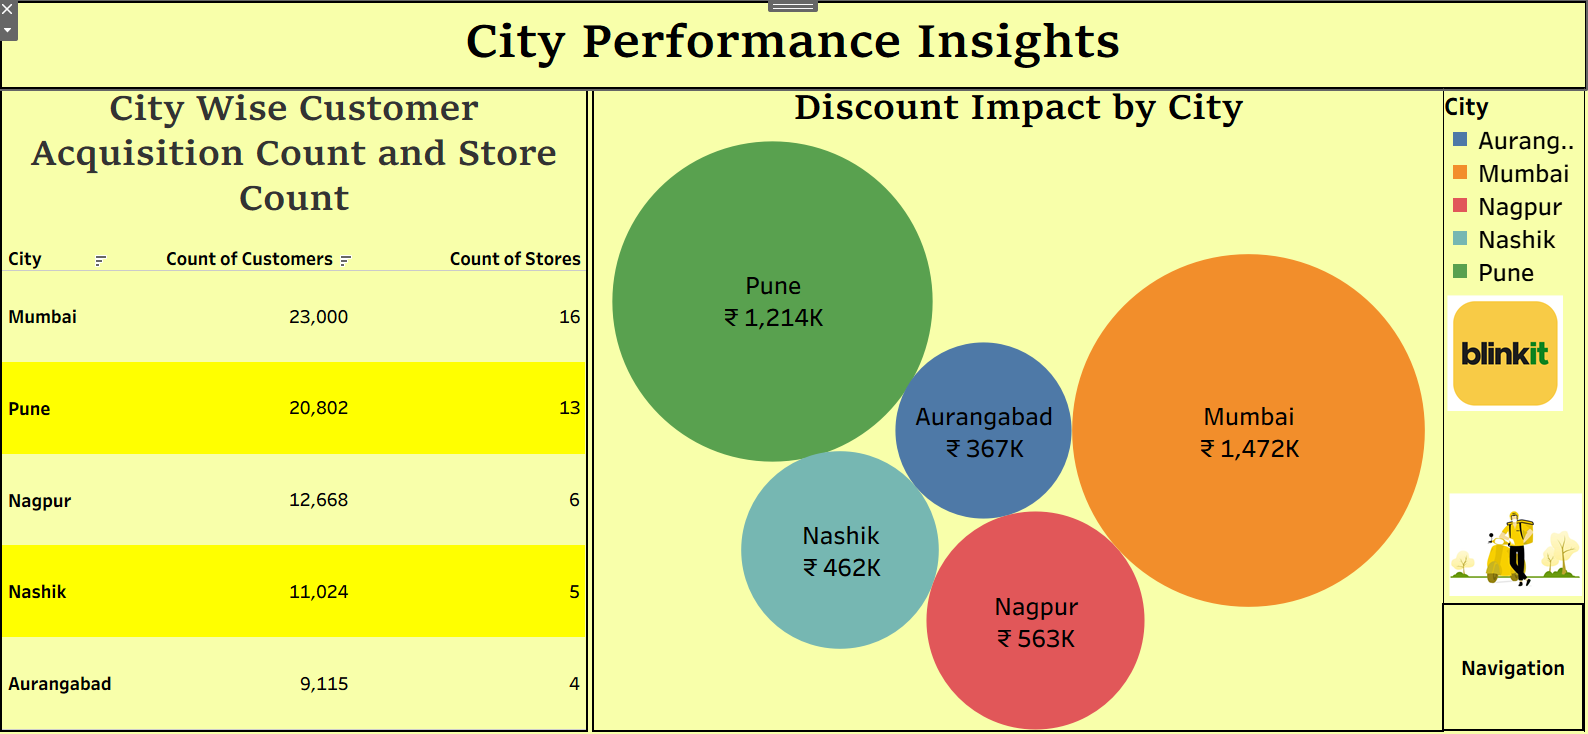

What the dashboard file says about the page in this screenshot:
{"tool":"tableau","page":{"name":"City Performance Insights","canvas":[1000,1000],"units":"permille","ordinal":0},"visuals":[{"type":"text","box":[4.9,7,989.1,117.4]},{"type":"worksheet","title":"City and Store Count","mark":"Automatic","rows":["City"],"box":[4.9,122.1,366.7,864]},{"type":"worksheet","title":"Discount Impact by City","mark":"Circle","box":[373.9,122.1,531.5,865.1]},{"type":"legend","title":"Discount Impact by City","param":"[federated.1uscovc1tqehue10v8pua1d7i4ou].[none:City:nk]","box":[904.9,123.3,88.5,864]},{"type":"image","param":"Image/image.png","box":[907.3,401.2,84.9,155.8]},{"type":"image","param":"Image/image2.jpg","box":[908.5,666.3,83,141.9]},{"type":"dashboard-object","box":[904.2,814,88.5,172.1]}]}

Visuals, with their boxes on the dashboard's canvas, which has no fixed pixel size, in thousandths of its width and height (x1, y1, x2, y2). These are canvas units, not pixel positions in the 1588x734 screenshot, which may show the page scaled, cropped or inside an application window:
text: [5, 7, 994, 124]
"City and Store Count" worksheet: [5, 122, 372, 986]
"Discount Impact by City" worksheet (Circle marks): [374, 122, 905, 987]
"Discount Impact by City" legend: [905, 123, 993, 987]
image: [907, 401, 992, 557]
image: [908, 666, 992, 808]
dashboard-object: [904, 814, 993, 986]
